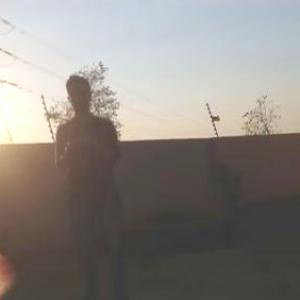follow: (52, 67, 138, 299)
